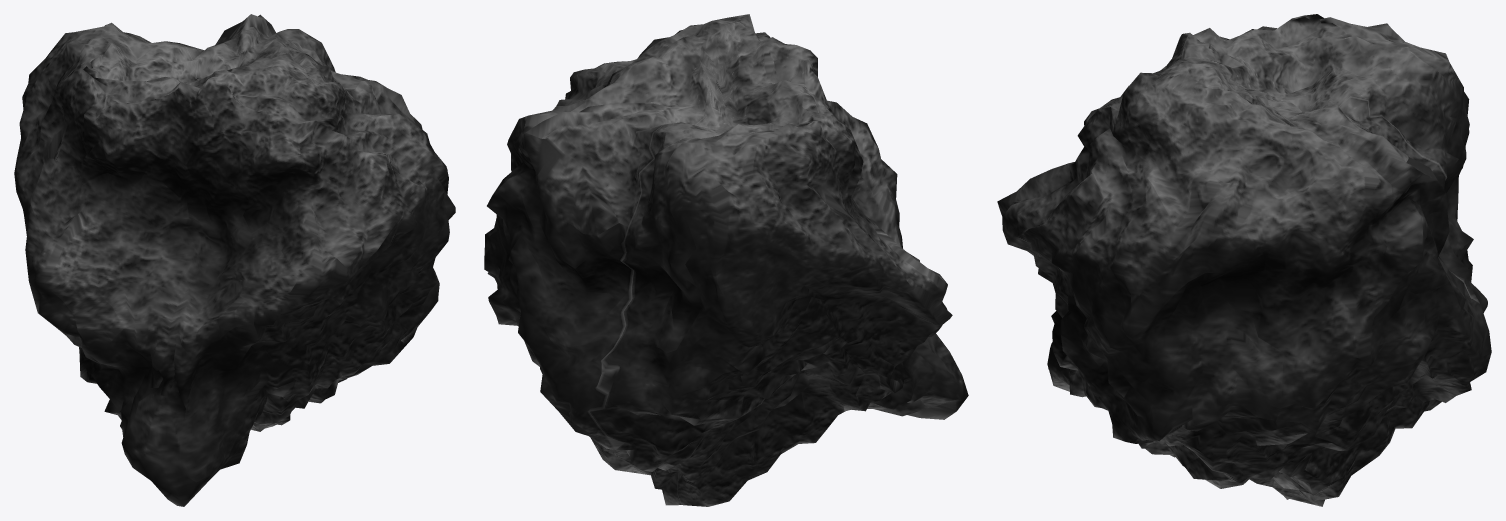
File: Asteroid.fbx
The picture shows the model from 3 angles, left to right: view 1: azimuth 30°, elevation 25°; view 2: azimuth 150°, elevation 25°; view 3: azimuth 270°, elevation 25°; orthographic projection. The views are drawn at different scales.
Visible parts, largest first — view 1: asteroid_01; view 2: asteroid_01; view 3: asteroid_01.
Part boxes in pixels (x1,y1,x2,y2): asteroid_01: [14, 14, 455, 506]; asteroid_01: [484, 14, 968, 506]; asteroid_01: [997, 14, 1491, 506].
Size of the model in its own units: 1.82 by 1.83 by 1.82.
Materials: 1 (1 with a texture image).
